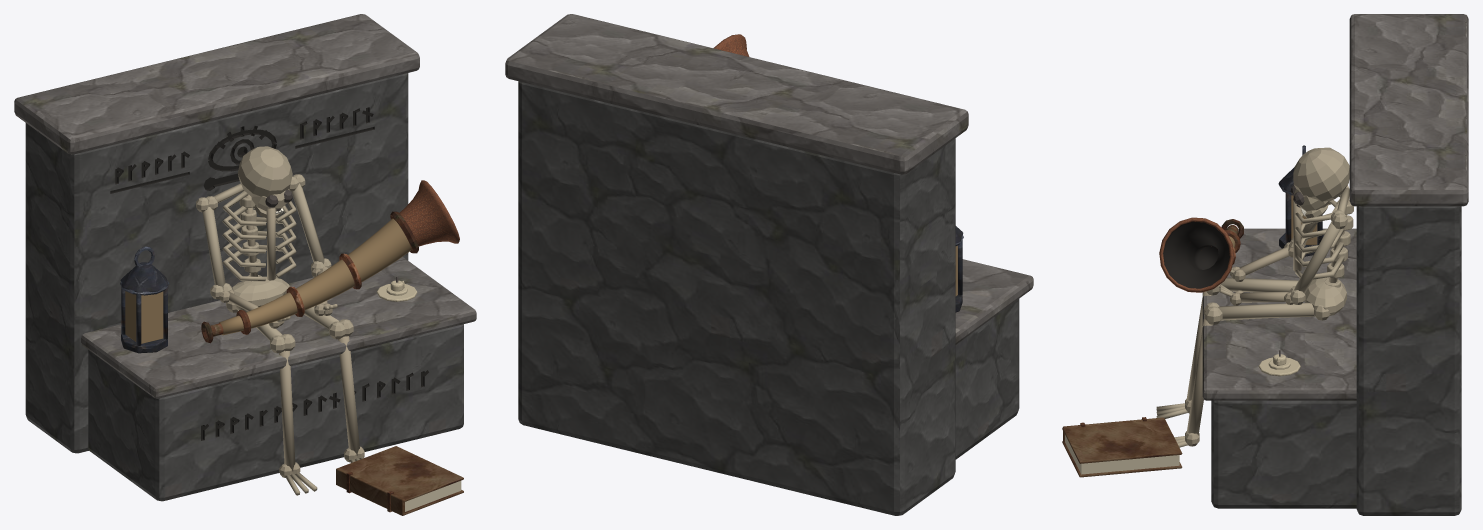
The model's file is vo_final_vigil.glb.
3 renders of one model, left to right at view 1: azimuth 30°, elevation 25°; view 2: azimuth 150°, elevation 25°; view 3: azimuth 270°, elevation 25°, orthographic. The views are drawn at different scales.
Visible parts, largest first — view 1: model; view 2: model; view 3: model.
Boxes of the visible parts, bbox=[...] form: model: bbox=[14, 14, 476, 515]; model: bbox=[505, 14, 1033, 515]; model: bbox=[1062, 14, 1468, 515].
Bounding box in the file's own units: 1.2 × 1.06 × 1.16.
17 materials, 8 textured.
